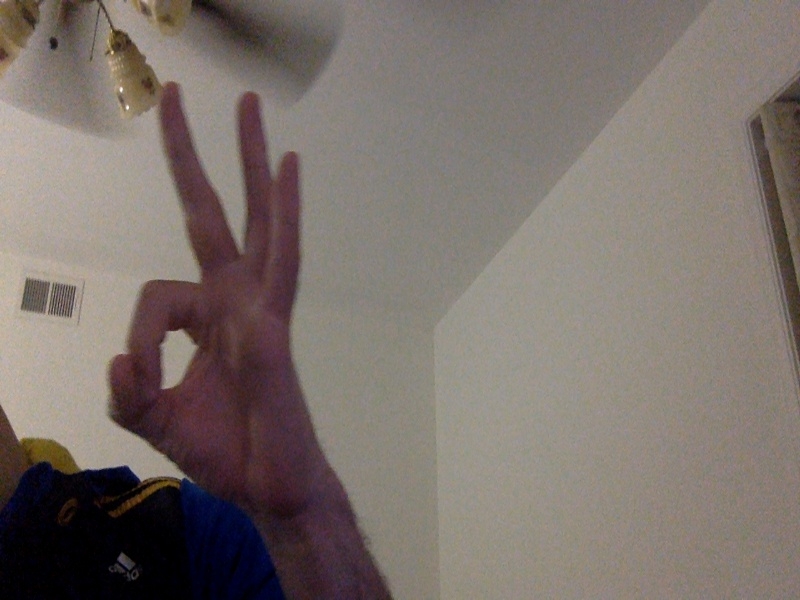3-hand: (115, 84, 329, 518)
